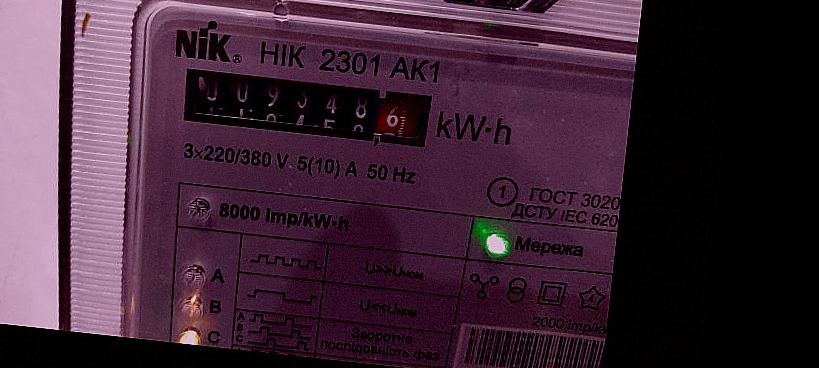0: (202, 76, 221, 104), (233, 76, 250, 104)
3: (294, 84, 311, 110)
4: (321, 85, 342, 117)
6: (382, 100, 403, 130)
8: (352, 91, 370, 121)
9: (264, 83, 281, 111)
screen: (162, 52, 447, 160)
